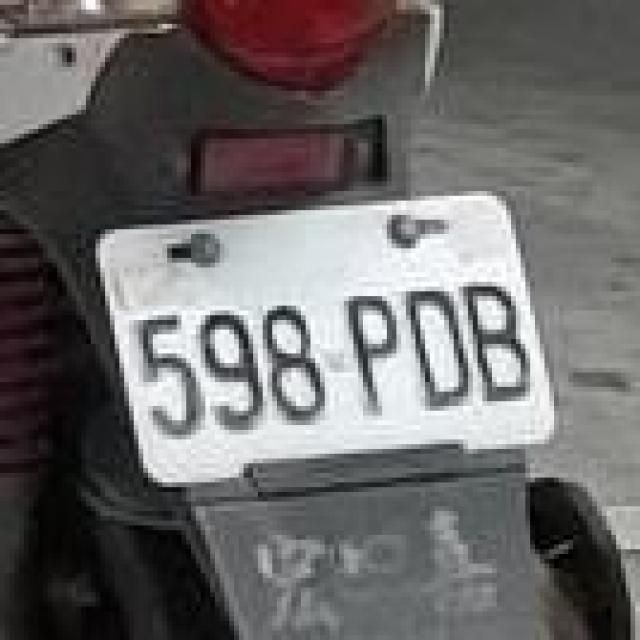W: (91, 167, 568, 487)
